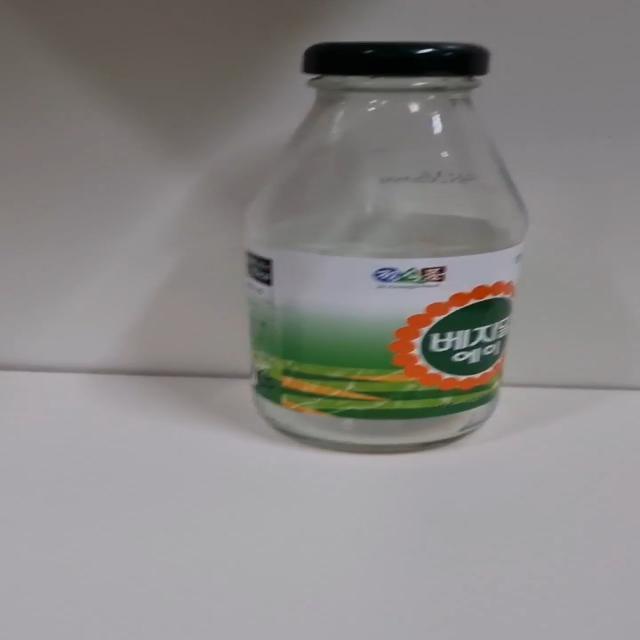Glass: (241, 42, 529, 458)
